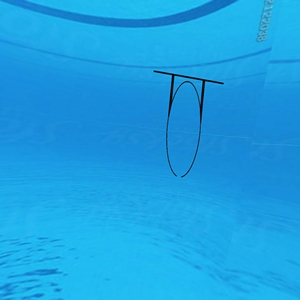circle: (151, 66, 226, 180)
